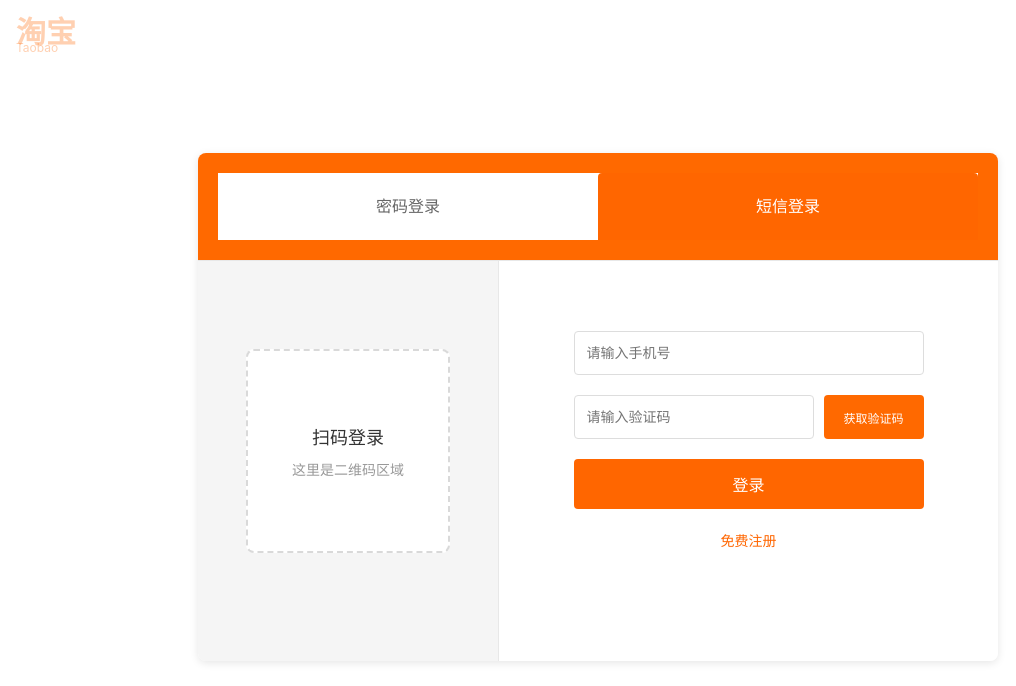
it: LoginForm › 应该验证手机号格式，格式错误时显示"请输入正确的手机号码"
#  输入无效手机号
Type "123" into the field with placeholder "请输入手机号" at coordinates (748, 353), box [574,331,924,375]
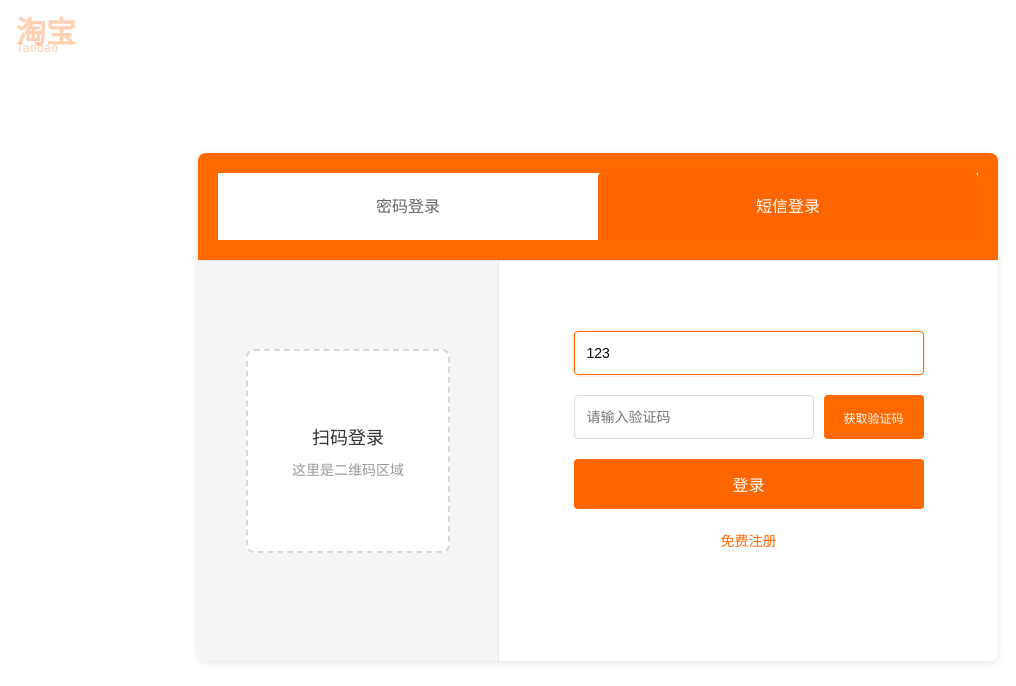
Click the button "获取验证码" at coordinates (874, 417), box [824,395,924,439]
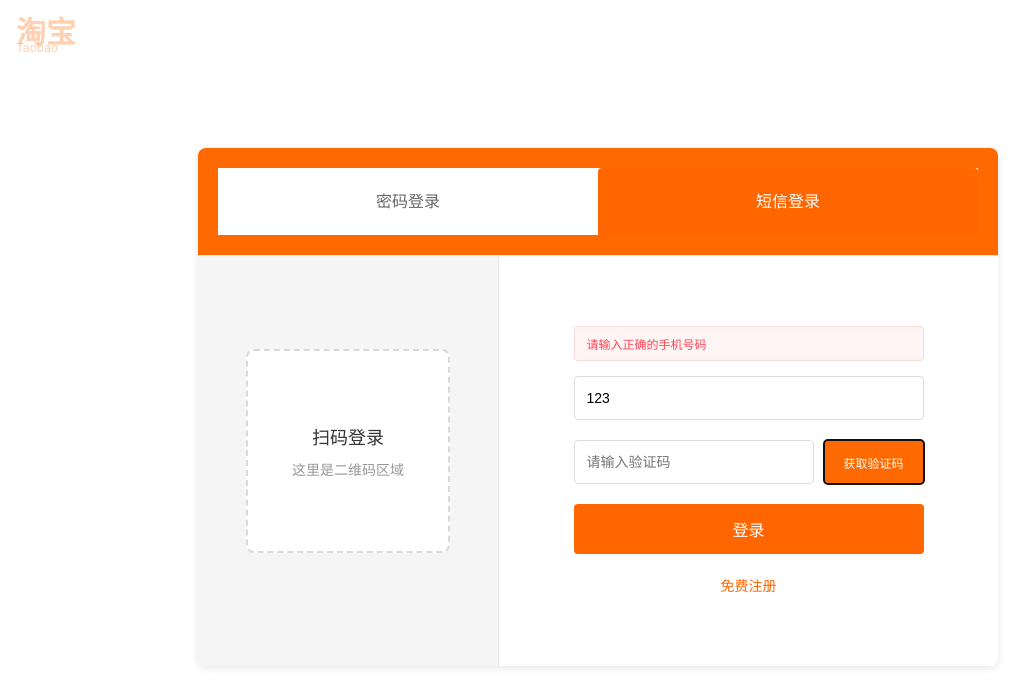
Check: the text "请输入正确的手机号码" is shown, box [574,326,924,361]
